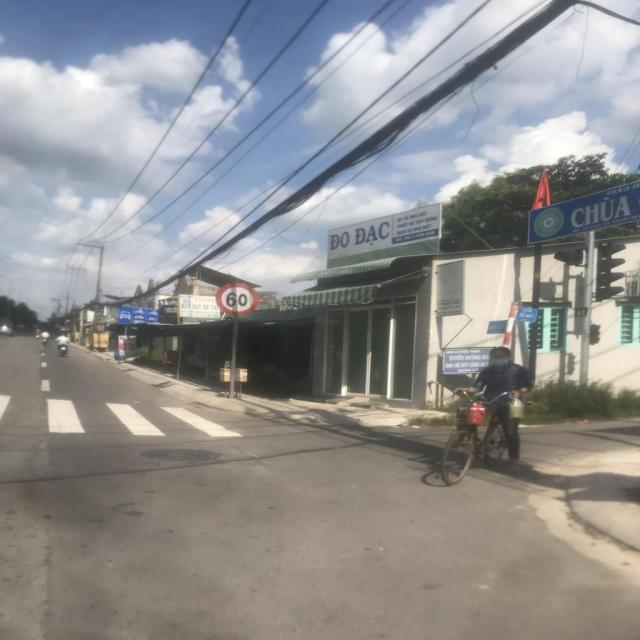127-toc-do-toi-da-60: (217, 283, 260, 317)
